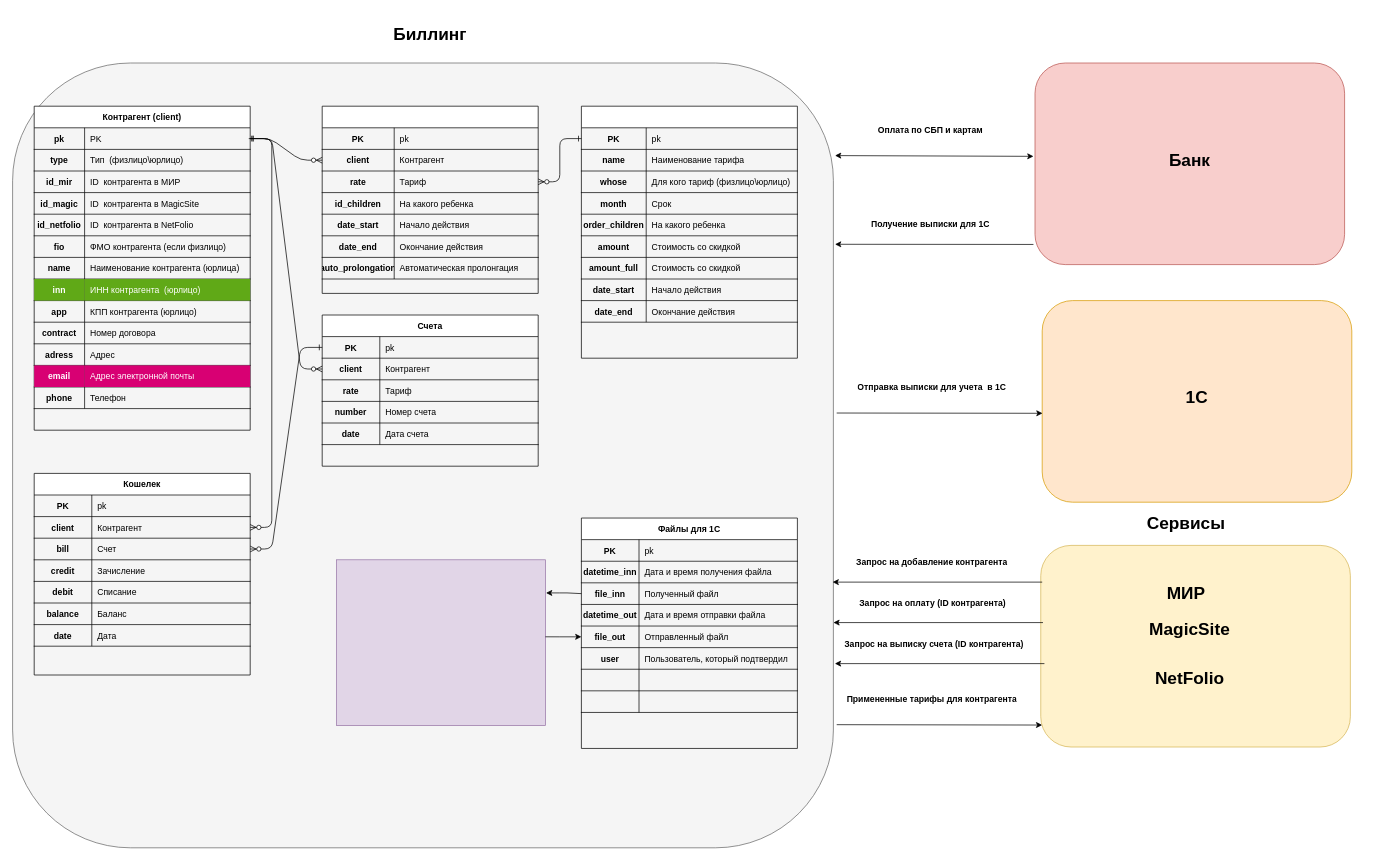
Image size: 1397x860. Some labels were removed from this diagram. Here are the shapes that lost their labels. From the top down, the box of each, then its label:
(321, 105, 538, 293): Примененные тарифы
(581, 105, 797, 358): Тарифы
(336, 559, 545, 725): Алгоритм обработки файла с участием оператора
